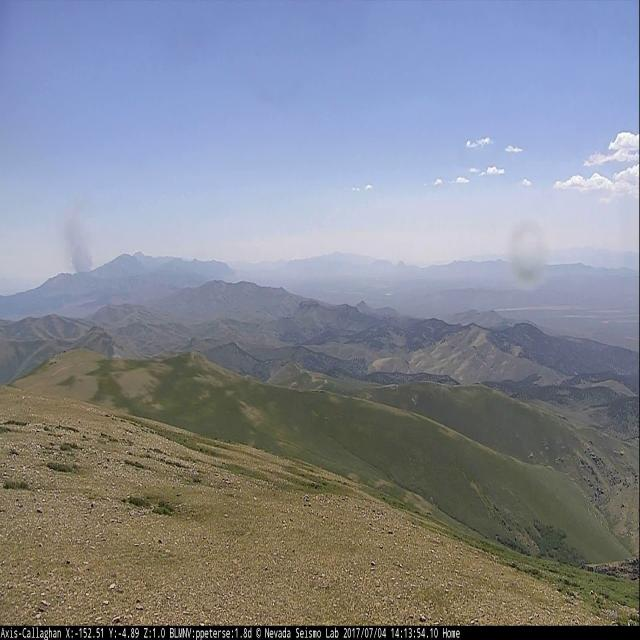smoke: (58, 187, 94, 275)
